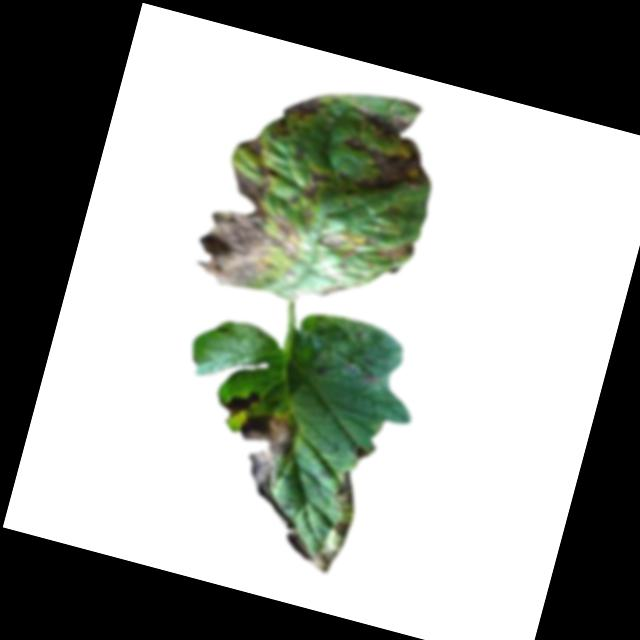Early_blight: (191, 163, 319, 304), (331, 102, 443, 216), (218, 407, 310, 530), (279, 459, 364, 577), (269, 86, 327, 145), (319, 224, 376, 268), (218, 381, 262, 423), (375, 232, 419, 268), (340, 352, 383, 385), (236, 132, 270, 158), (307, 167, 334, 186)
